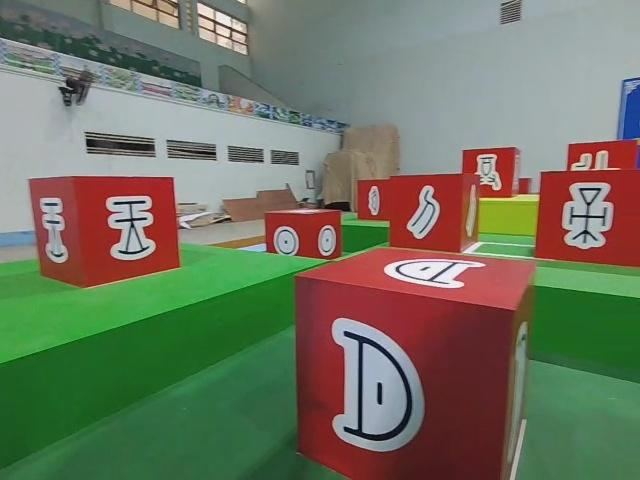R2 Real: (292, 244, 538, 480), (27, 173, 182, 289), (532, 166, 640, 269), (387, 172, 482, 252), (263, 206, 343, 262), (460, 145, 523, 201), (355, 175, 400, 224)
